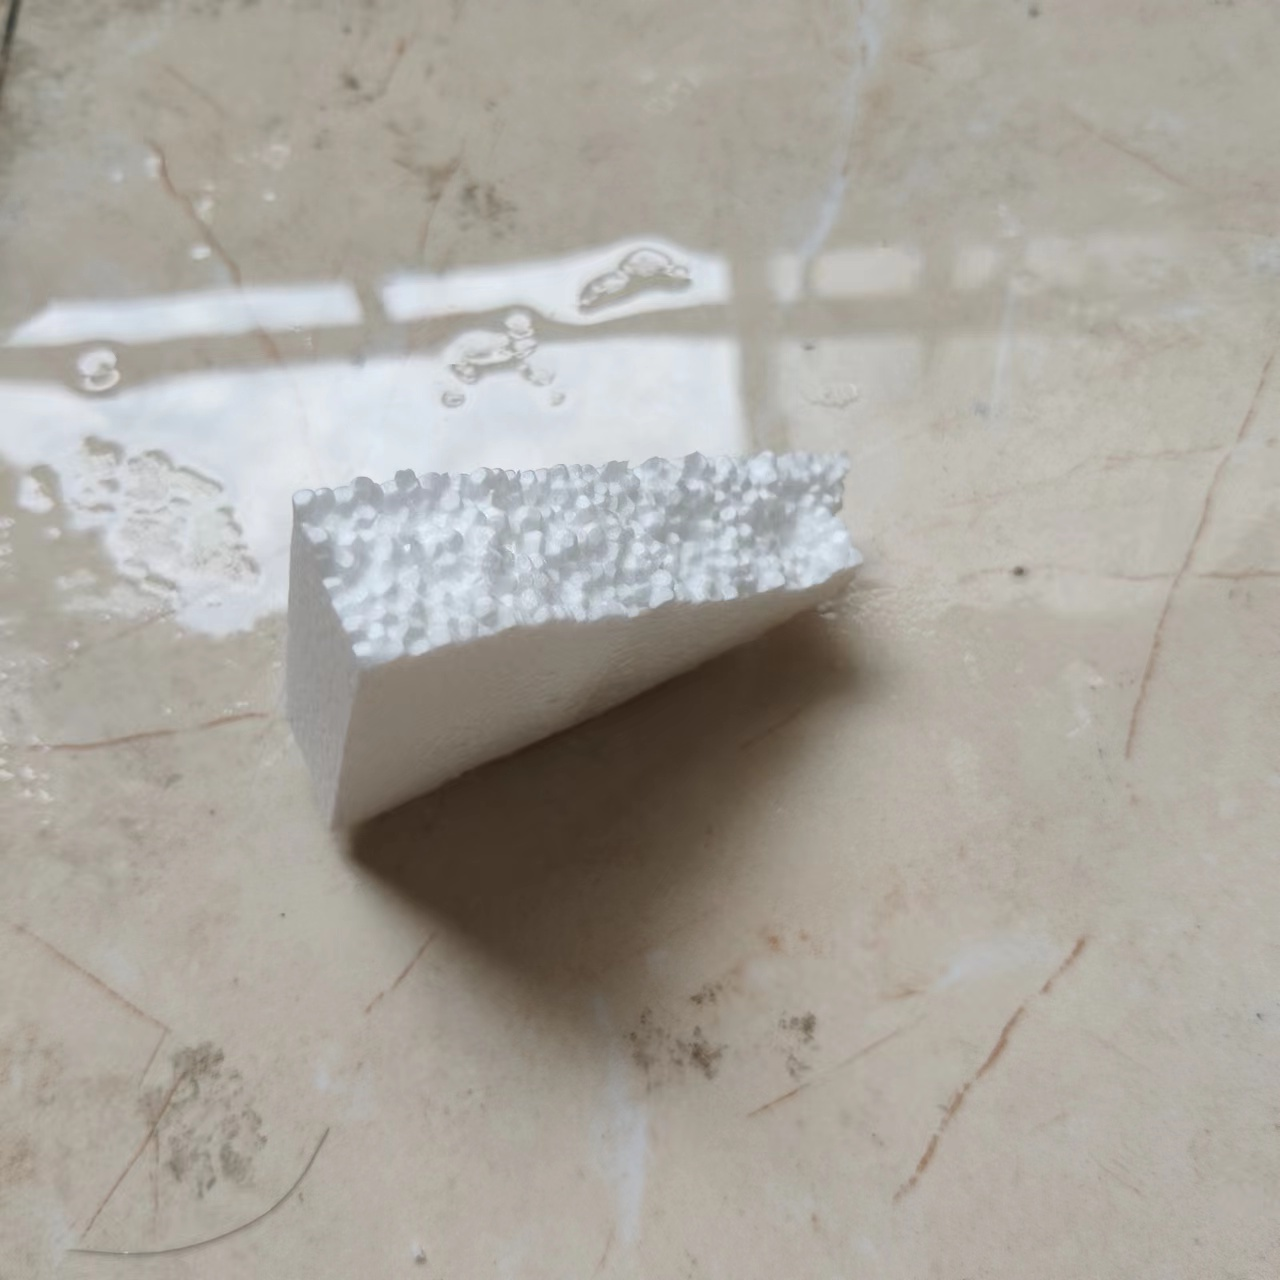5/可回收垃圾/泡沫: (282, 447, 862, 835)
